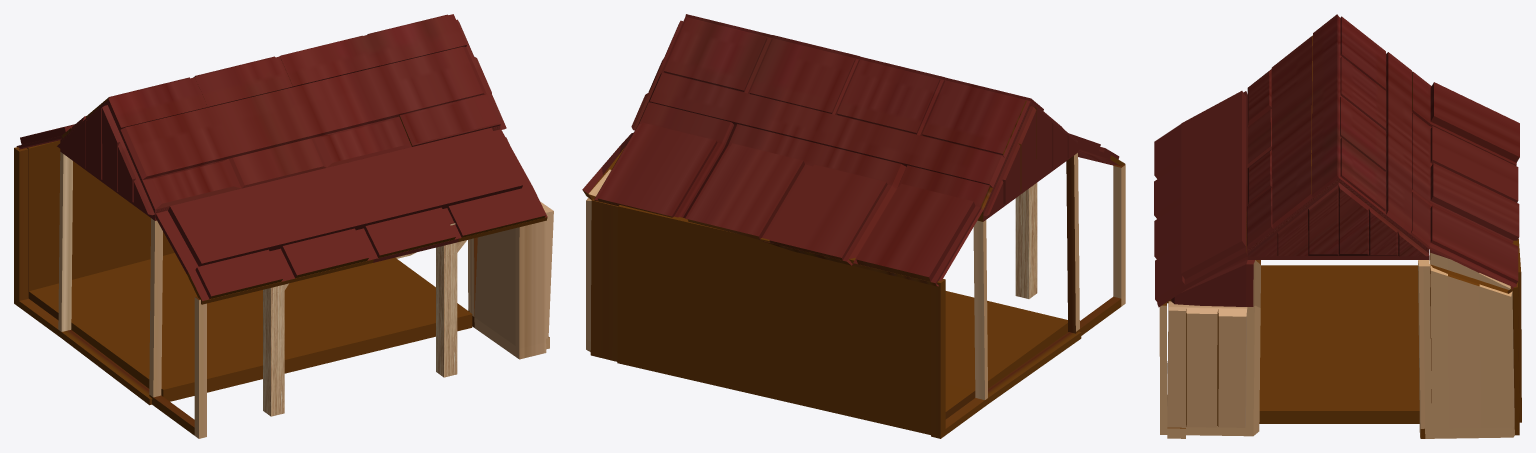
Rendered from house.fbx.
The picture shows the model from 3 angles, left to right: view 1: azimuth 30°, elevation 25°; view 2: azimuth 150°, elevation 25°; view 3: azimuth 270°, elevation 25°; orthographic projection. The views are drawn at different scales.
Parts seen in each view (by area): view 1: Cube; view 2: Cube; view 3: Cube.
Part boxes in pixels (<box>): Cube: <box>14,14,553,438</box>; Cube: <box>582,14,1125,438</box>; Cube: <box>1154,14,1521,438</box>.
Size of the model in its own units: 1008 by 723 by 912.
